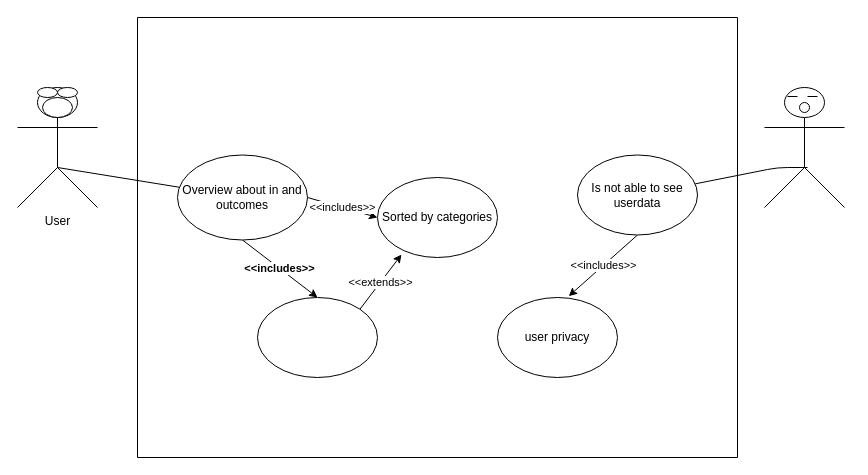
This 868x475 diagram has some shape labels left out. The shapes that lost their labels are listed below. From the top down, each one's centre as x and y in pixels, then its label:
the point at 804,147: Admin/Developer
the point at 317,337: Custom Dashboard
